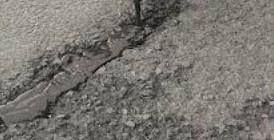alligator-crack: (1, 0, 193, 124)
